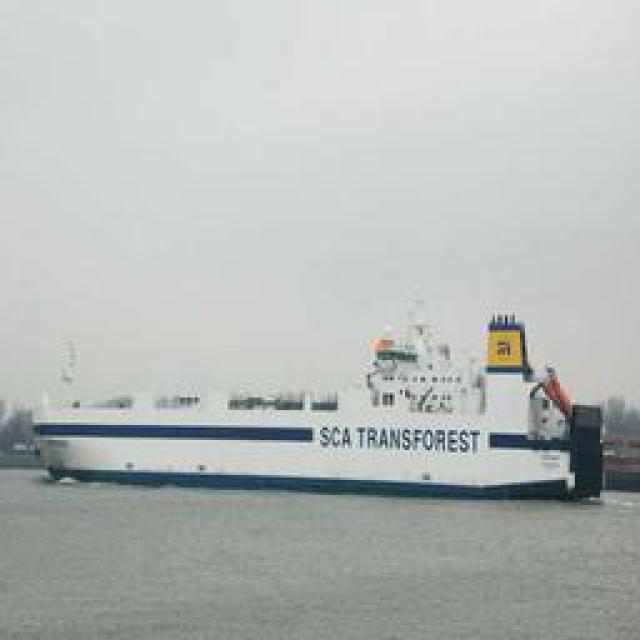Ship: (30, 320, 598, 498)
